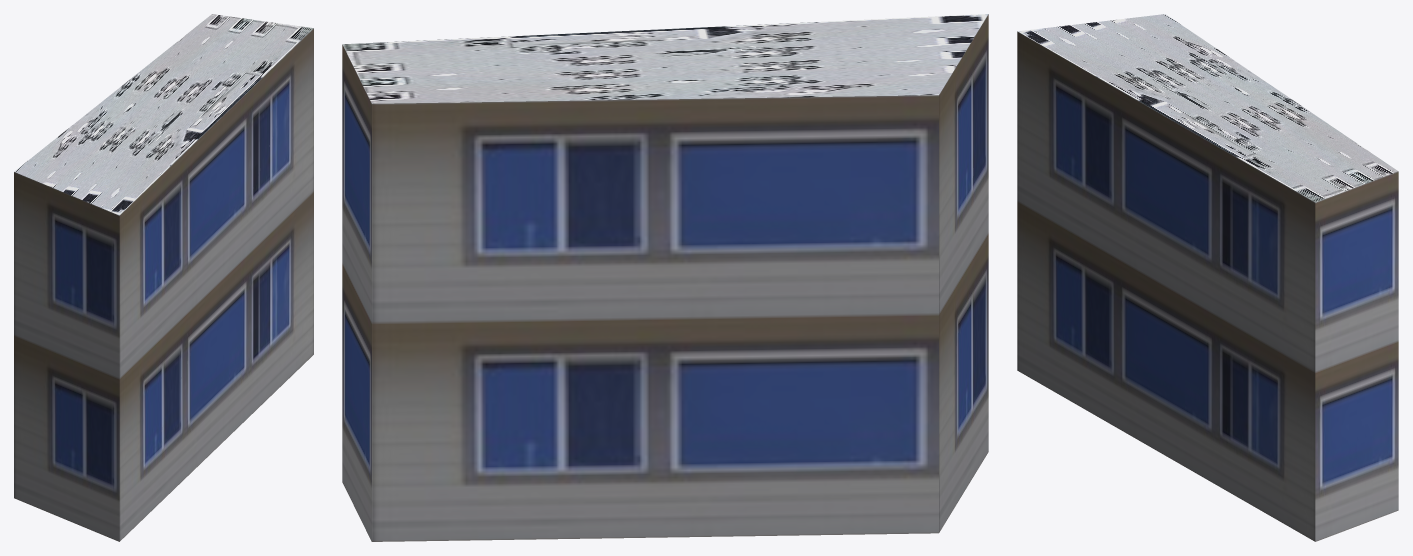
File: ResTex__3559.fbx
The picture shows the model from 3 angles, left to right: view 1: azimuth 30°, elevation 25°; view 2: azimuth 150°, elevation 25°; view 3: azimuth 270°, elevation 25°; orthographic projection. The views are drawn at different scales.
Visible parts, largest first — view 1: CityEngineMaterial_23_m, CityEngineMaterial_4_m; view 2: CityEngineMaterial_23_m, CityEngineMaterial_4_m; view 3: CityEngineMaterial_23_m, CityEngineMaterial_4_m.
Boxes of the visible parts, left/top/right/bottom form: CityEngineMaterial_23_m: left=14, top=28, right=313, bottom=541; CityEngineMaterial_4_m: left=14, top=14, right=313, bottom=215; CityEngineMaterial_23_m: left=342, top=14, right=988, bottom=541; CityEngineMaterial_4_m: left=342, top=14, right=988, bottom=103; CityEngineMaterial_23_m: left=1017, top=31, right=1398, bottom=541; CityEngineMaterial_4_m: left=1018, top=14, right=1398, bottom=202.
Size of the model in its own units: 7.16 by 6 by 6.11.
Materials: 2 (2 with a texture image).
